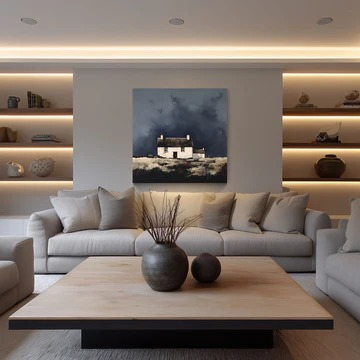painting: (132, 88, 228, 183)
